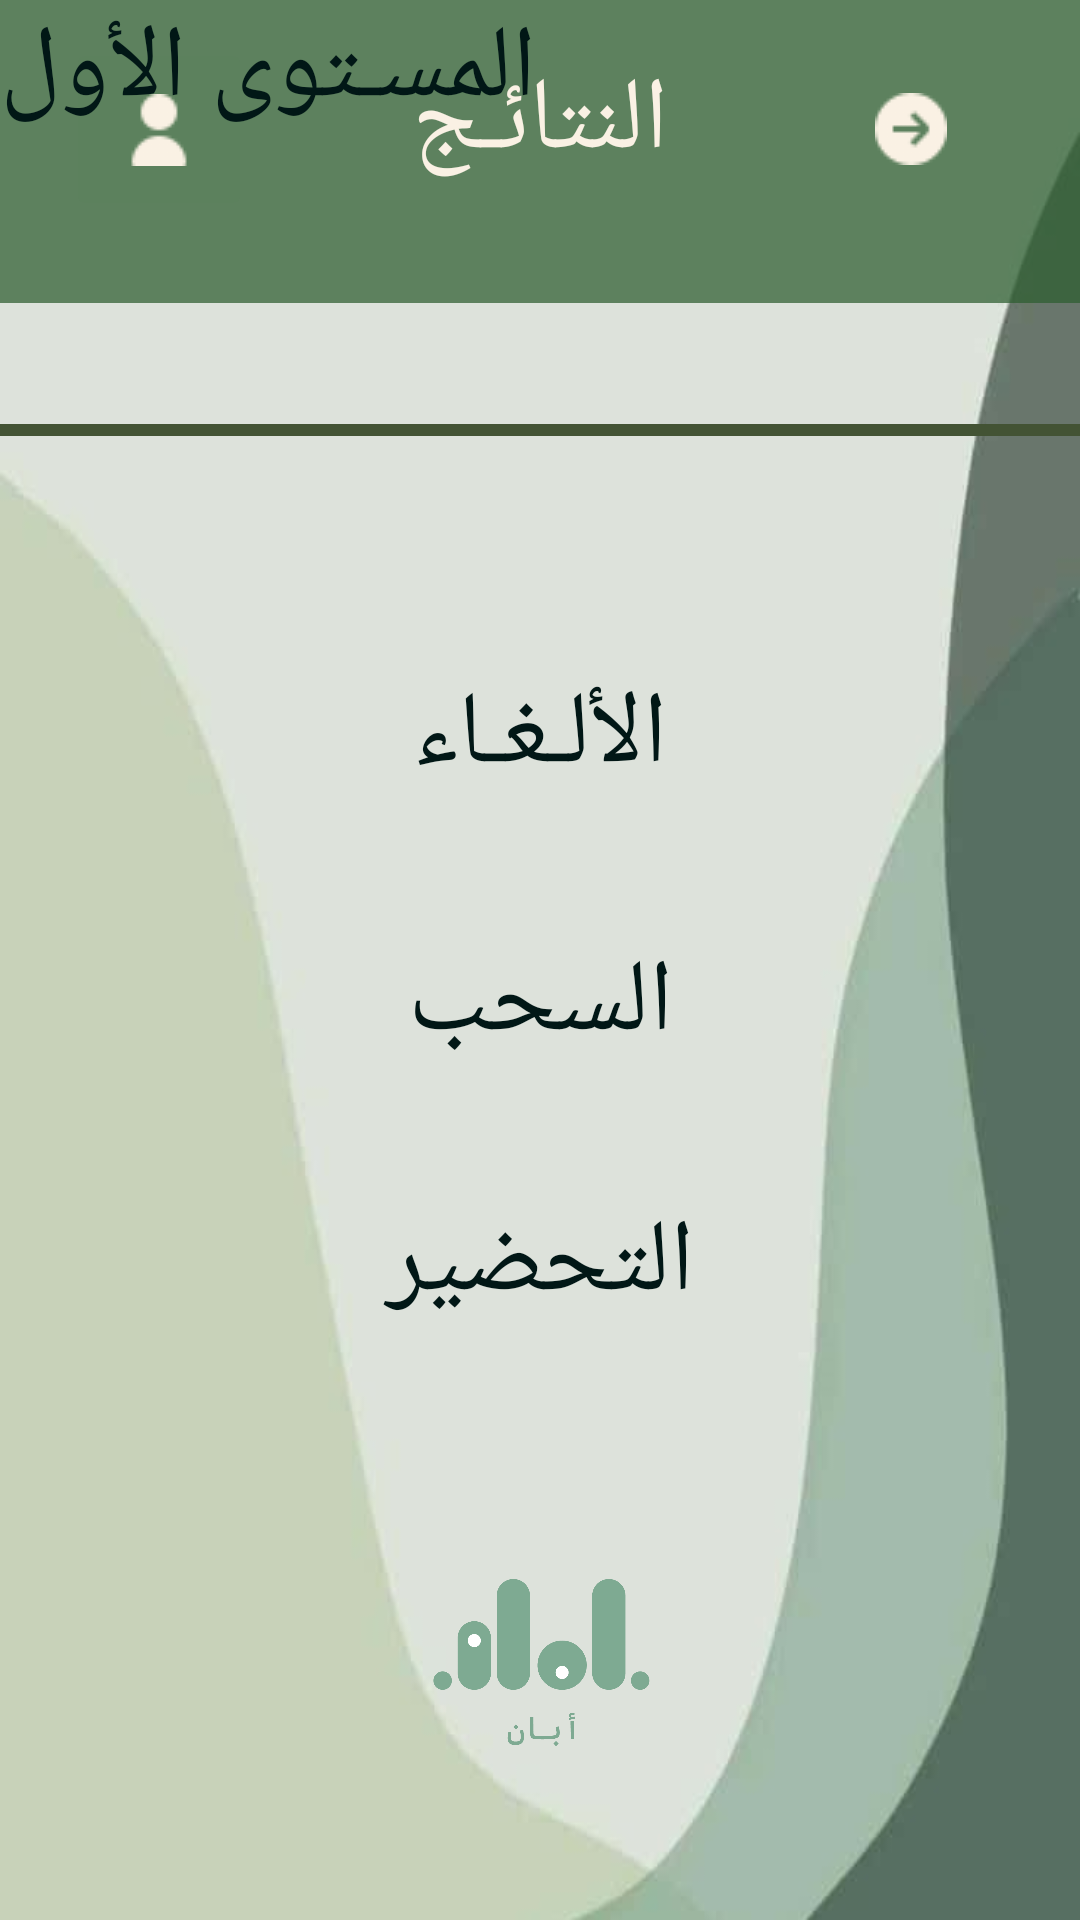

Icons on this 1080x1920 Android screen, each with the point to tap as (x,y):
arrow: (911,129)
